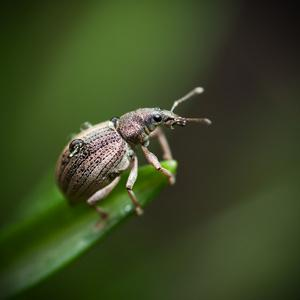Curculionidae: (53, 85, 212, 230)
